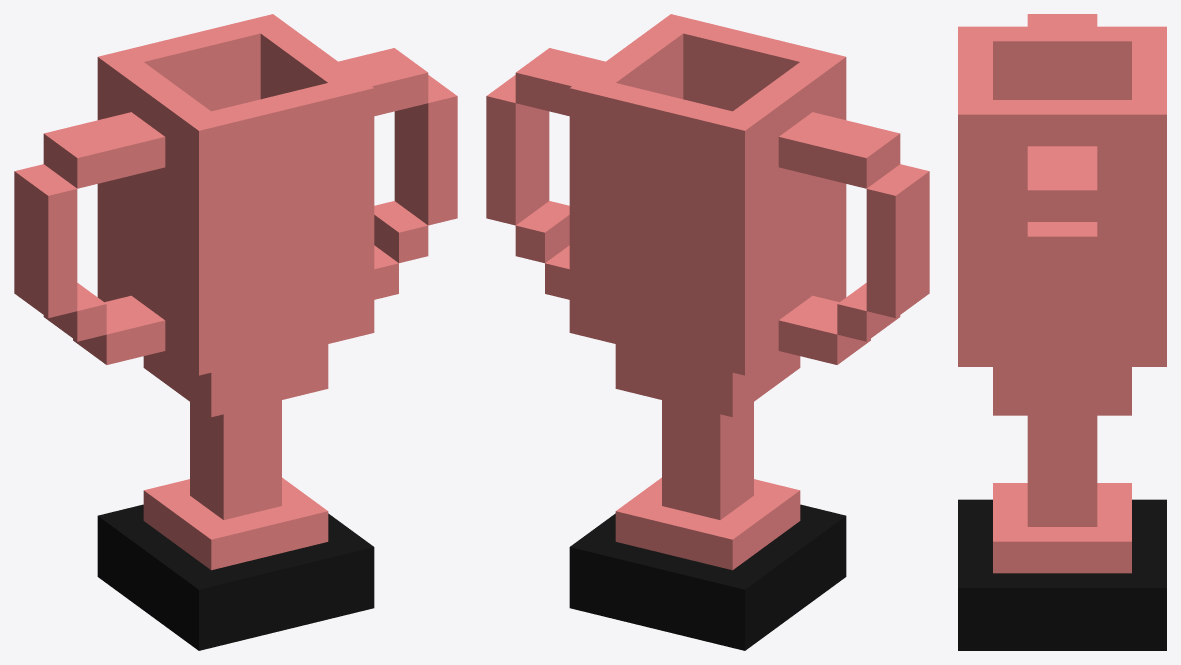
The model's file is Trophy-15.obj.
3 renders of one model, left to right at view 1: azimuth 30°, elevation 25°; view 2: azimuth 150°, elevation 25°; view 3: azimuth 270°, elevation 25°, orthographic. The views are drawn at different scales.
Visible parts, largest first — view 1: Trophy-15; view 2: Trophy-15; view 3: Trophy-15.
Boxes of the visible parts, bbox=[...] form: Trophy-15: bbox=[14, 14, 457, 650]; Trophy-15: bbox=[486, 14, 929, 650]; Trophy-15: bbox=[958, 14, 1166, 650].
Bounding box in the file's own units: 14 × 17 × 6.
1 material, 1 textured.
